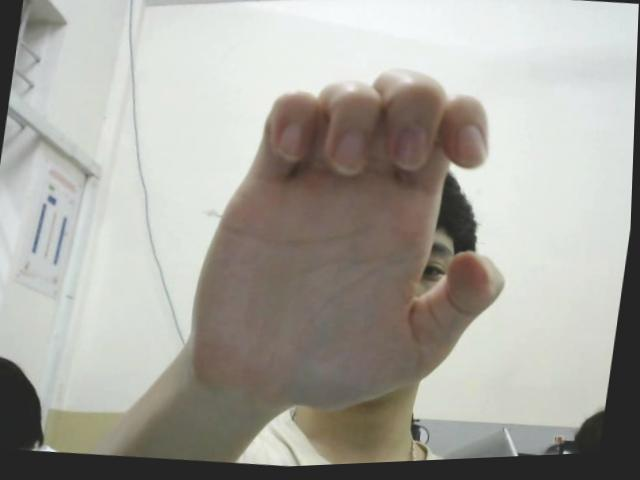E: (179, 46, 538, 433)
